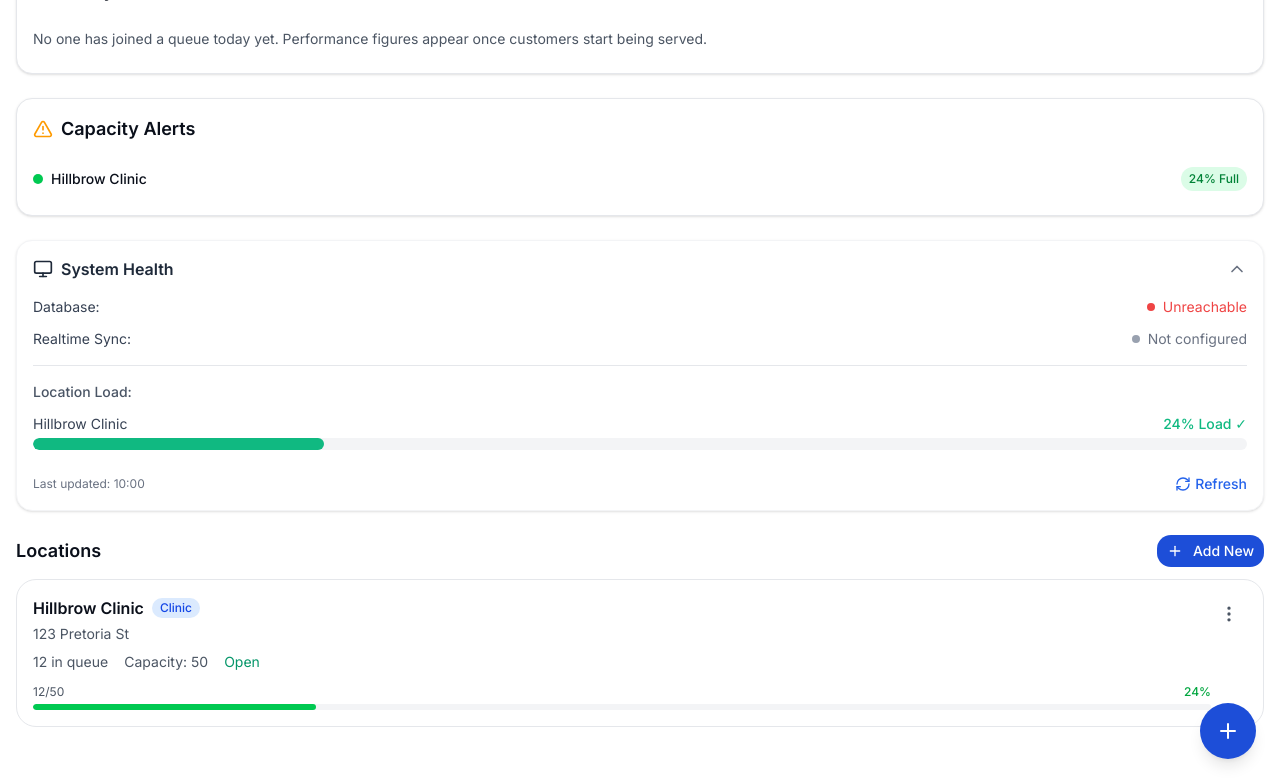
Test: AdminDashboardScreen › edit/delete menu appears on ⋮ tap
(page scrolled)
Step 1. Click the button without text in the row of "123 Pretoria St" → click(1229, 614), box [1211, 596, 1247, 632]
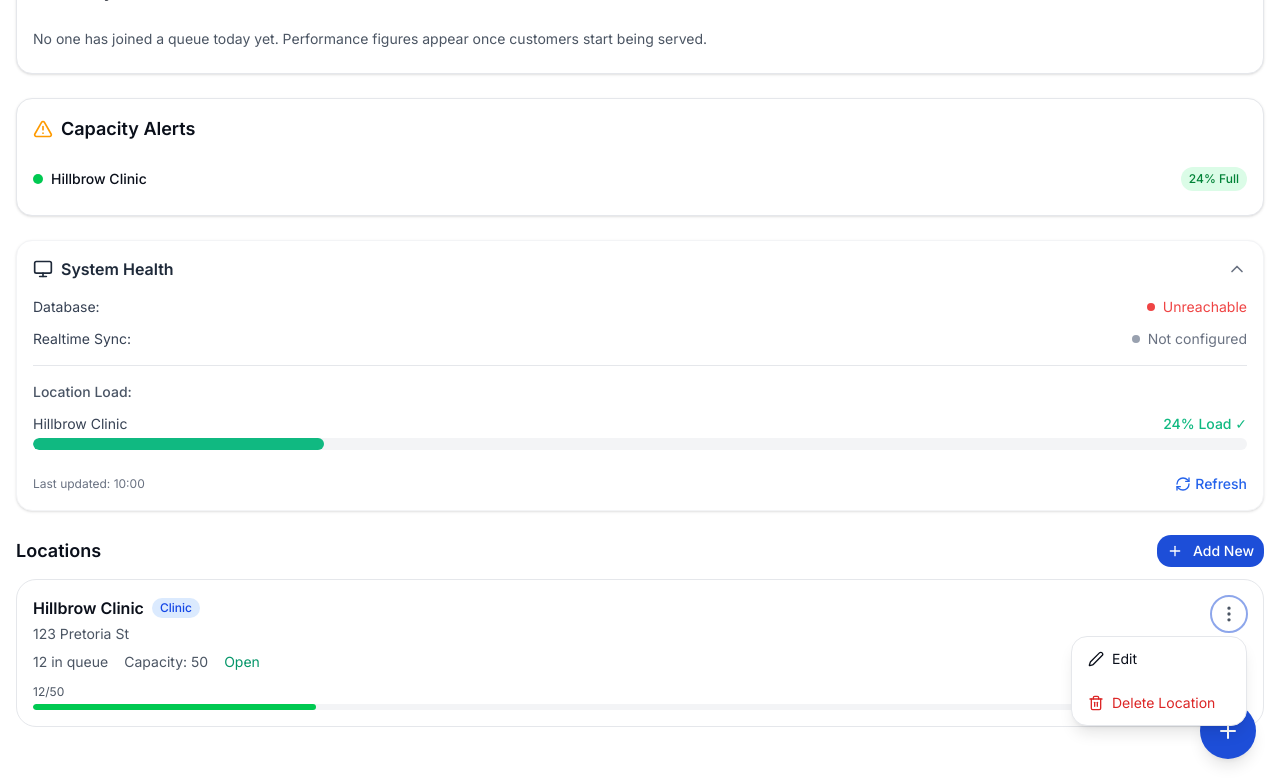
Check: the button "Edit" is shown, box [1072, 637, 1246, 681]
